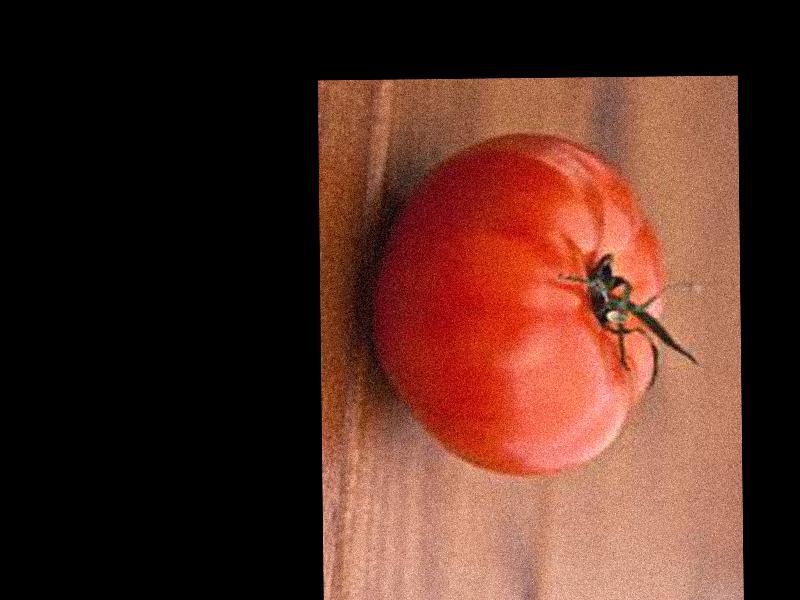Tomato: (370, 133, 666, 481)
